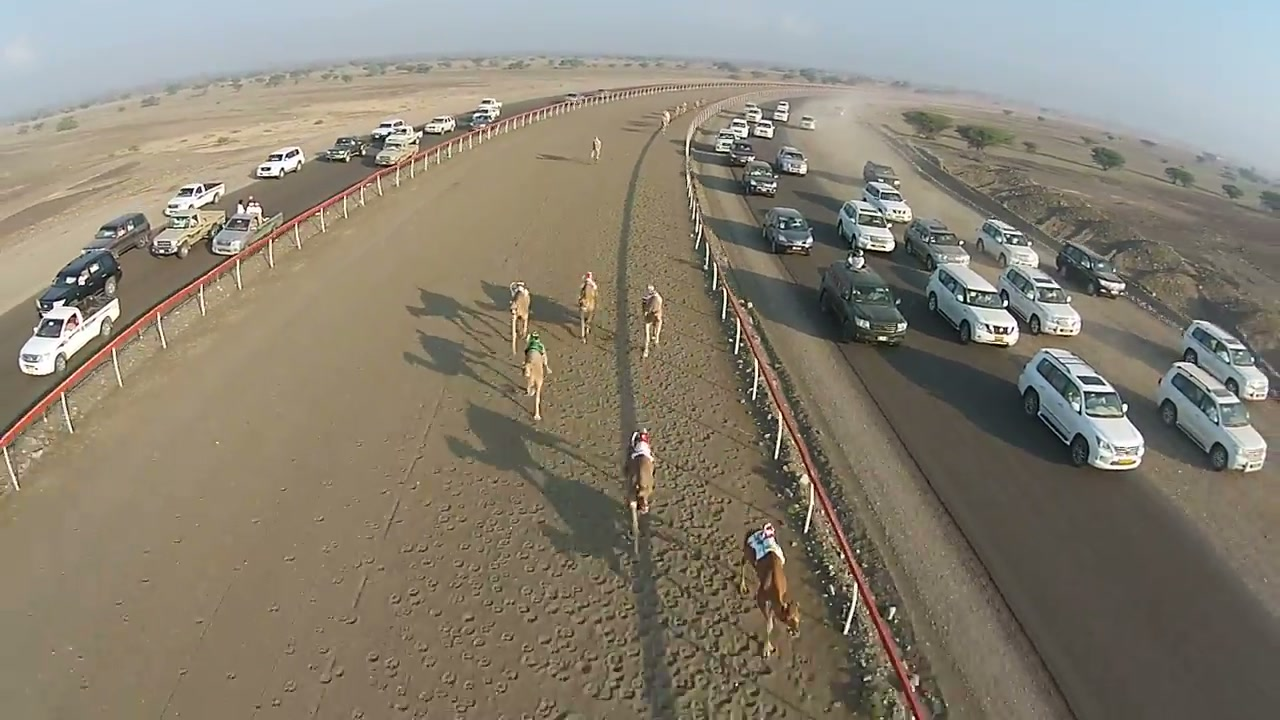animal_foot_print: (240, 420, 782, 718), (539, 349, 700, 477)
